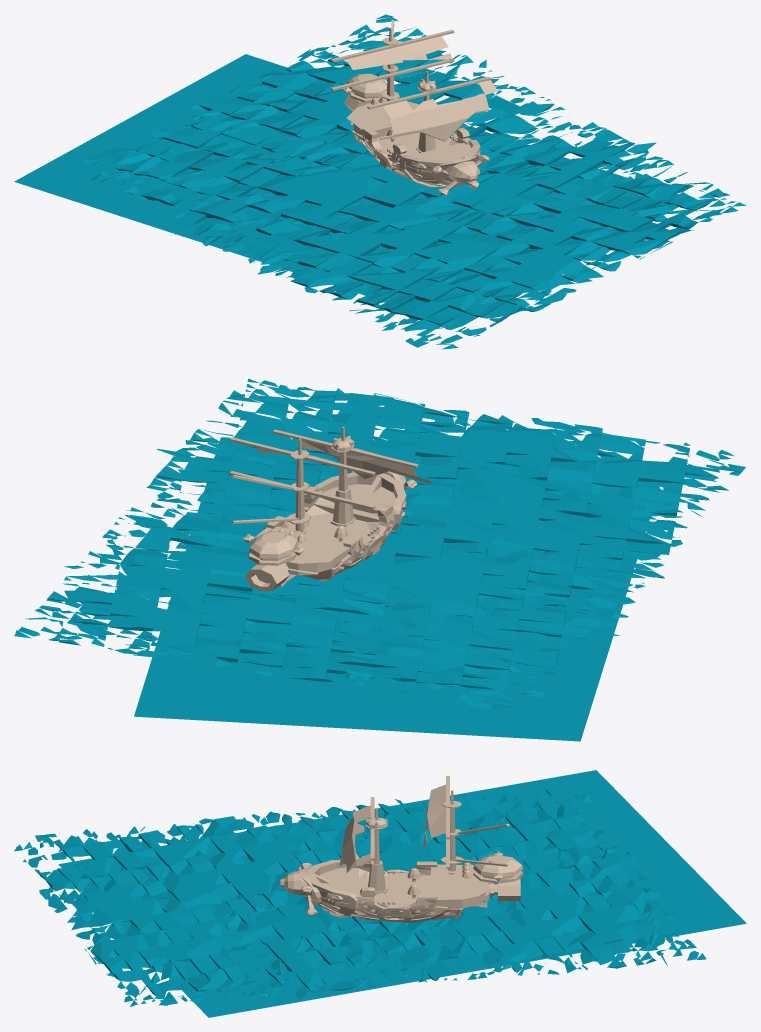
Rendered from asset.glb.
3 views of the same model, one above another, from view 1: azimuth 30°, elevation 25°; view 2: azimuth 150°, elevation 25°; view 3: azimuth 270°, elevation 25° (orthographic). The views are drawn at different scales.
Visible parts, largest first — view 1: Mesh_Mesh_head_geo.001_lambert2SG.001; view 2: Mesh_Mesh_head_geo.001_lambert2SG.001; view 3: Mesh_Mesh_head_geo.001_lambert2SG.001.
Boxes of the visible parts, left/top/right/bottom form: Mesh_Mesh_head_geo.001_lambert2SG.001: left=14, top=14, right=746, bottom=349; Mesh_Mesh_head_geo.001_lambert2SG.001: left=14, top=378, right=745, bottom=741; Mesh_Mesh_head_geo.001_lambert2SG.001: left=14, top=770, right=746, bottom=1017.
Size of the model in its own units: 397 by 97 by 481.
